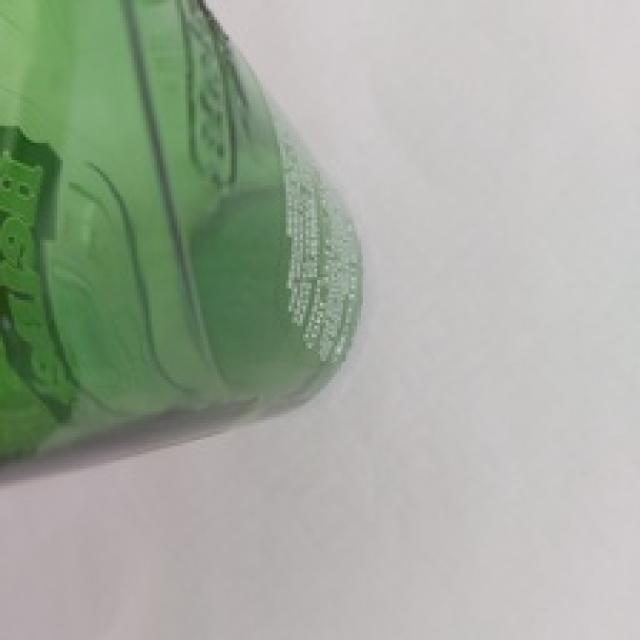Glass: (0, 0, 364, 468)
